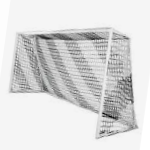goals: (7, 23, 140, 140)
